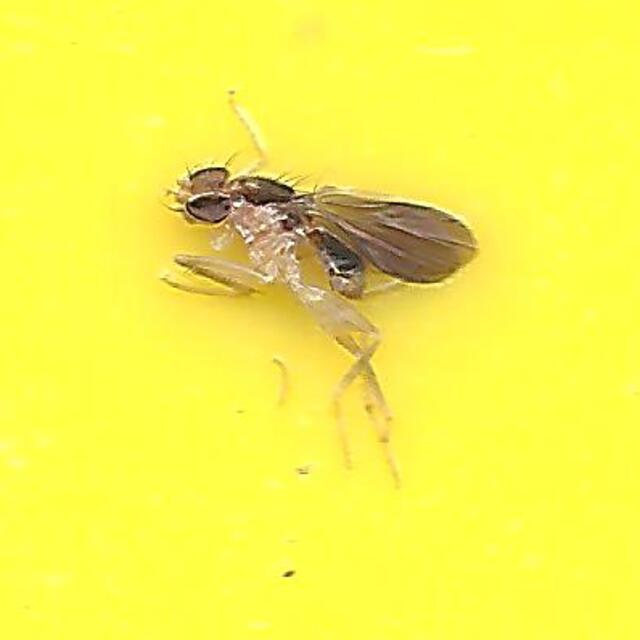Brachycera: (161, 158, 479, 482)
